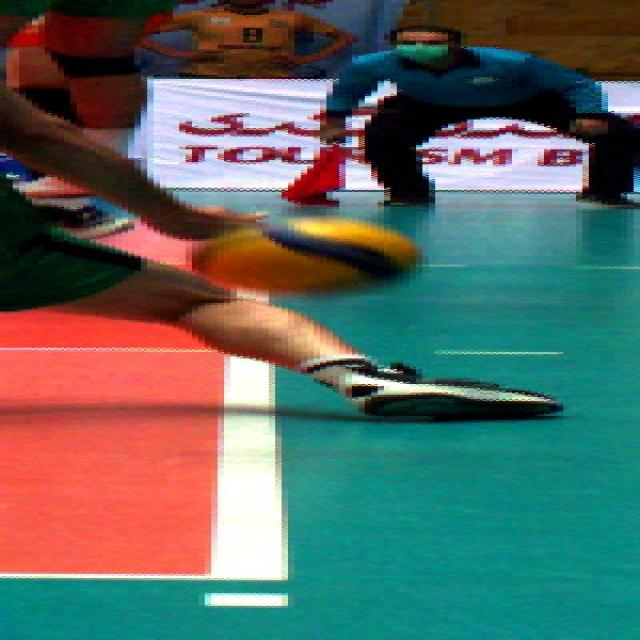Volleyball: (195, 218, 422, 294)
